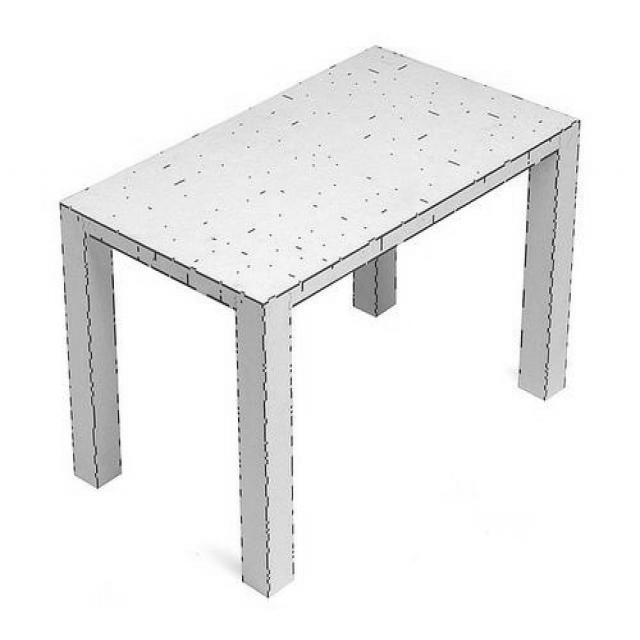table: (60, 47, 583, 591)
